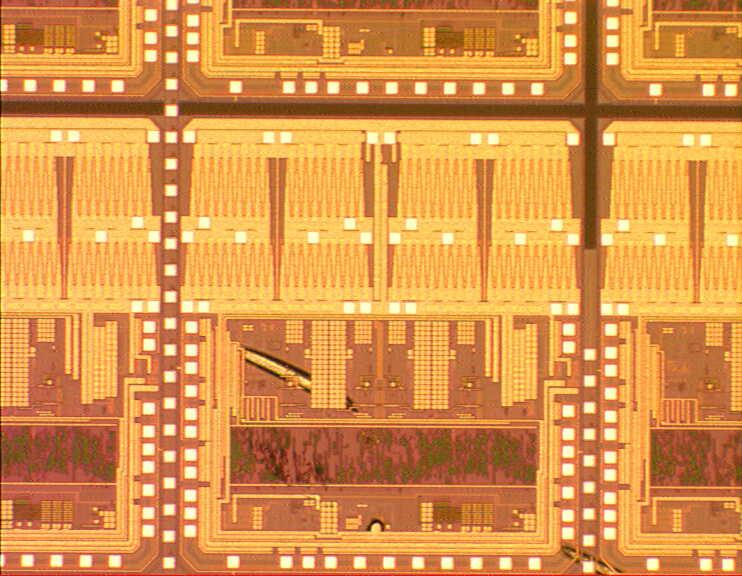COATING BAD: (220, 328, 631, 576)
